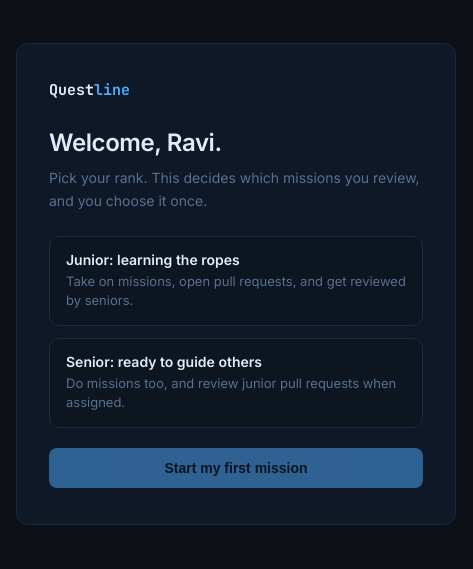
Test: App sign-in flow › keeps the user on onboarding and shows the error if saving fails
Click the radio button labelled "Junior" at (236, 281), box [49,236,423,326]
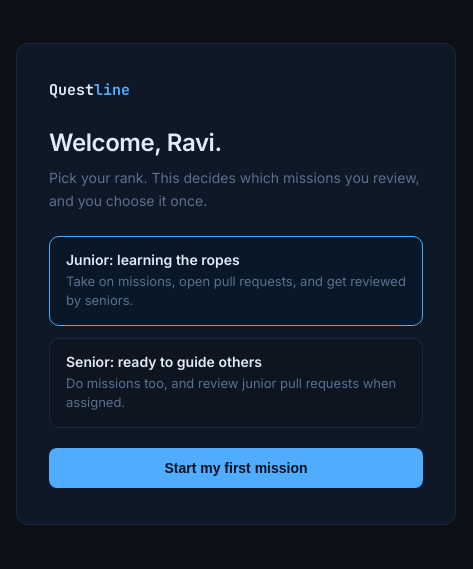
Click the button "Start my first mission" at (236, 468), box [49,448,423,488]
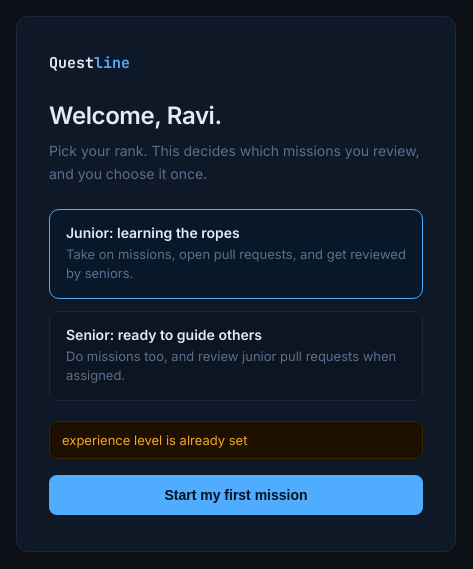
Expected: the button "Start my first mission" is enabled, [49,475,423,515]
Expected: the message reads "experience level is already set", [62,432,247,448]
